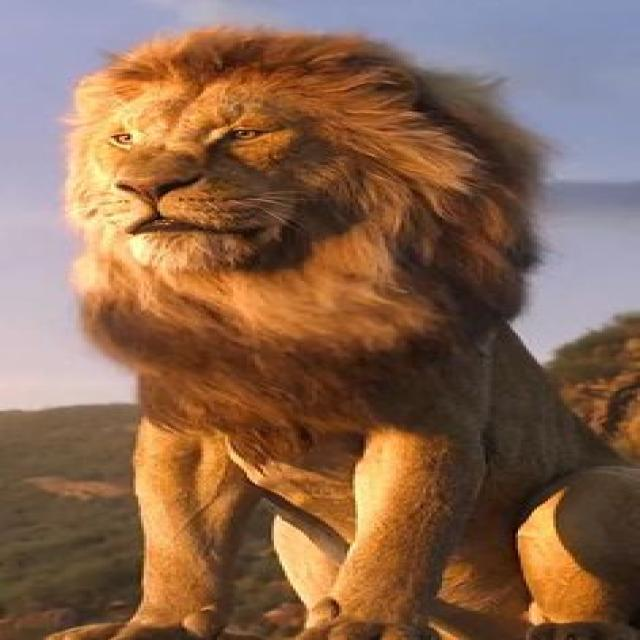lions: (27, 21, 640, 640)
